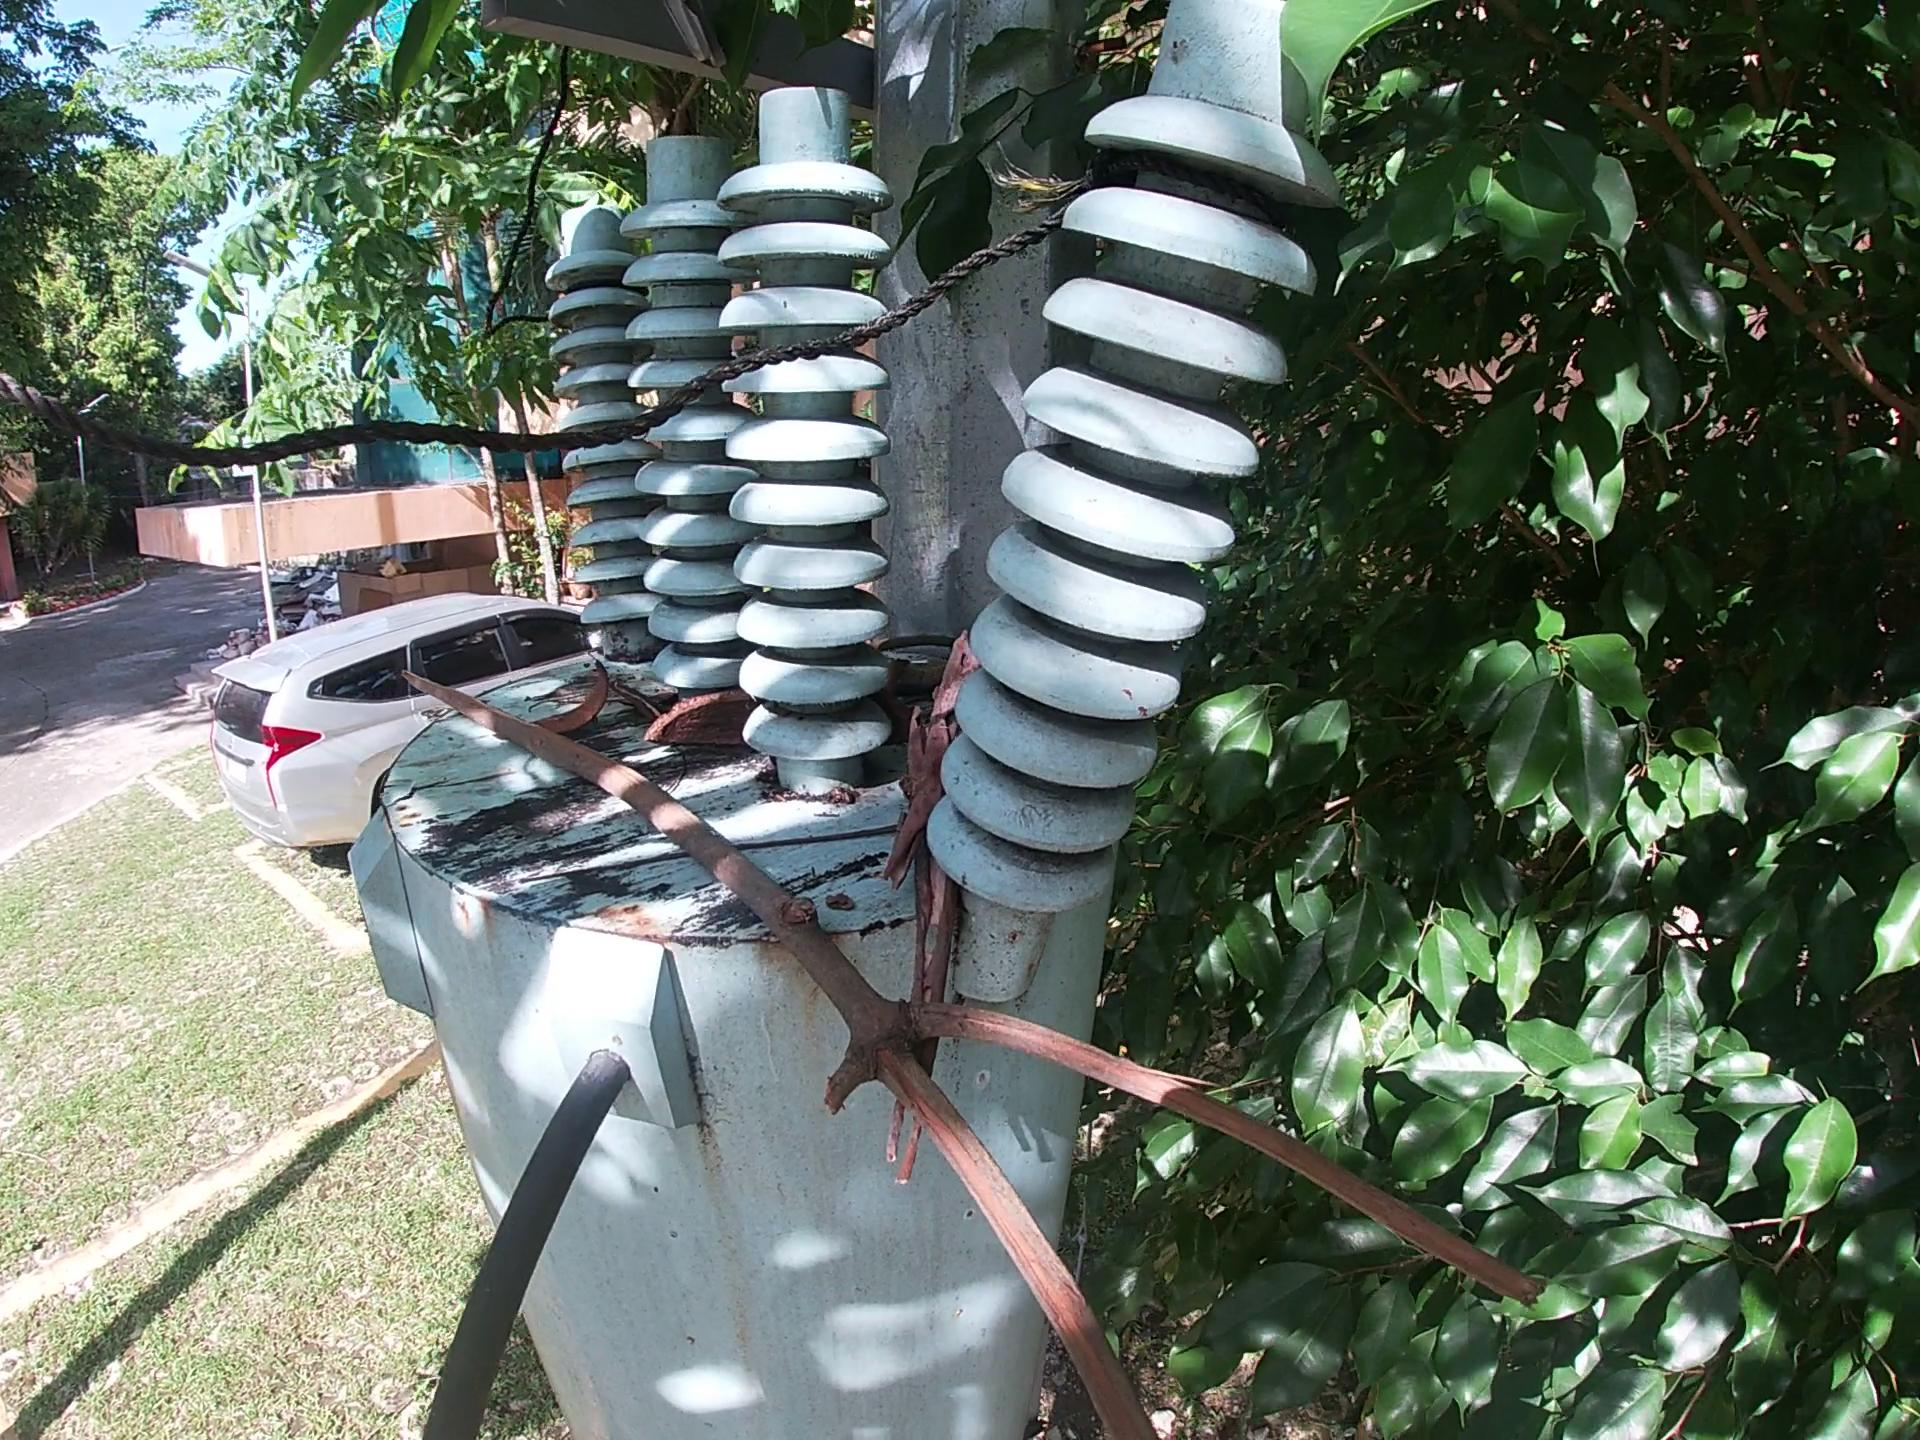mahogany fruit: (639, 687, 766, 755), (522, 656, 621, 741)
tree branch: (382, 644, 1550, 1440), (865, 632, 984, 1206), (862, 625, 974, 656)
